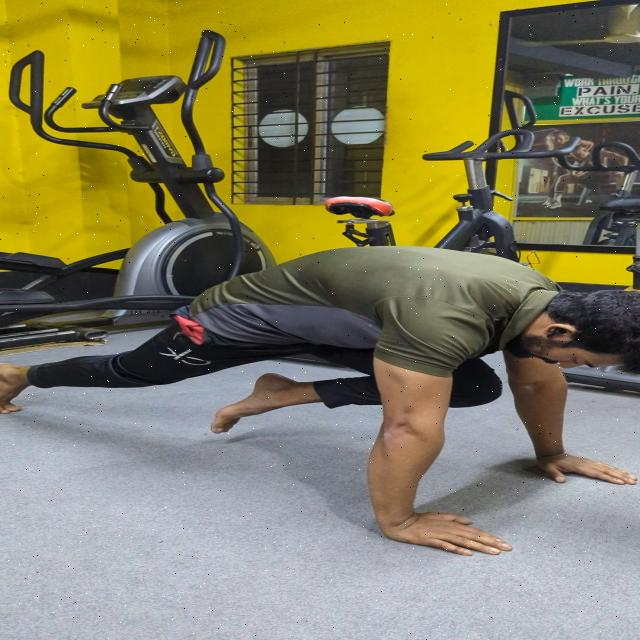Normal_MountainClimbers: (0, 218, 640, 566)
